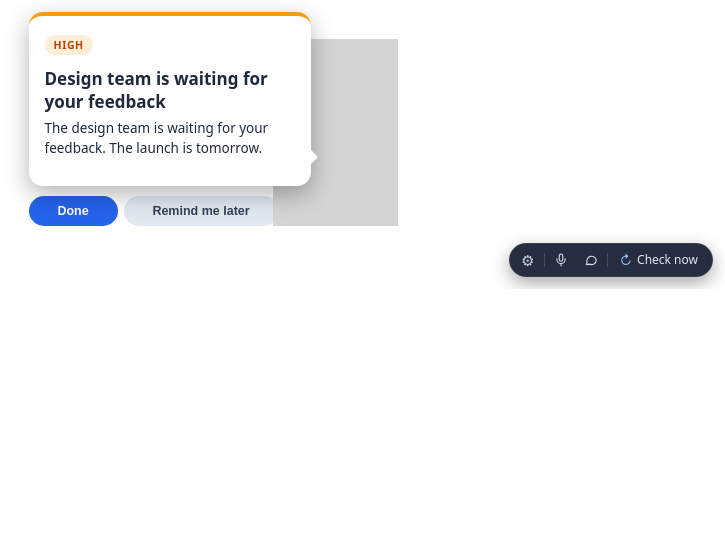
Scenario: desktop overlay › chat with Zara (ADR-006 M2) › shows Zara's friendly error (e.g. a rejected key)
The width and height of the screenshot is (725, 557).
Expected: the element with test id "intervention-card" is shown, top-left (28, 12), bottom-right (398, 226)
Click the button named "Chat with Zara".
click(591, 260)  # box top-left (577, 247), bottom-right (605, 273)
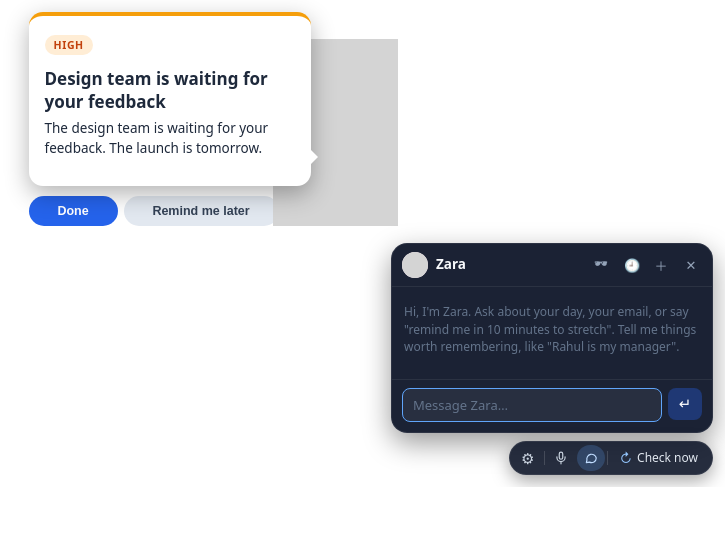
Type "hi" into the field labelled "Message Zara".
click(532, 405); type("hi")  # box top-left (402, 388), bottom-right (662, 422)
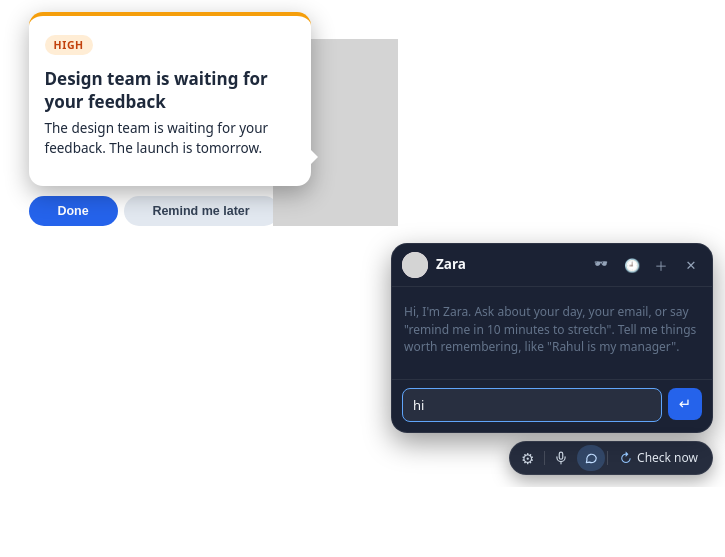
Press Enter in the field named "Message Zara", box top-left (402, 388), bottom-right (662, 422)
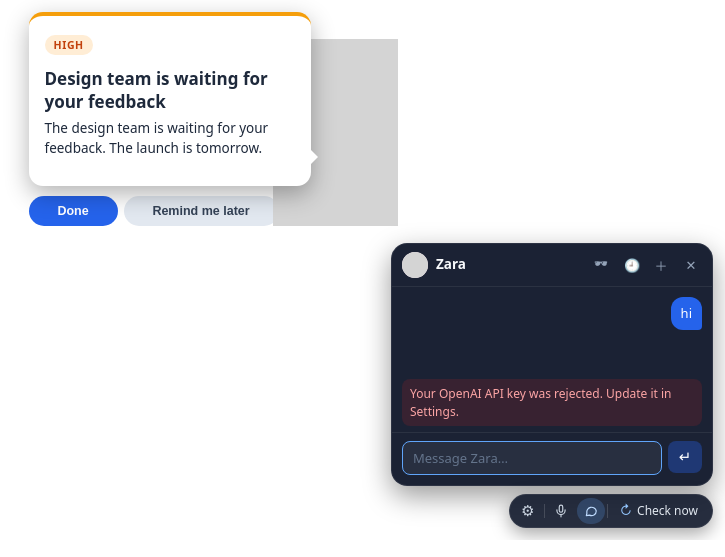
Now the message shows "Your OpenAI API key was rejected.", box top-left (410, 385), bottom-right (672, 420)
